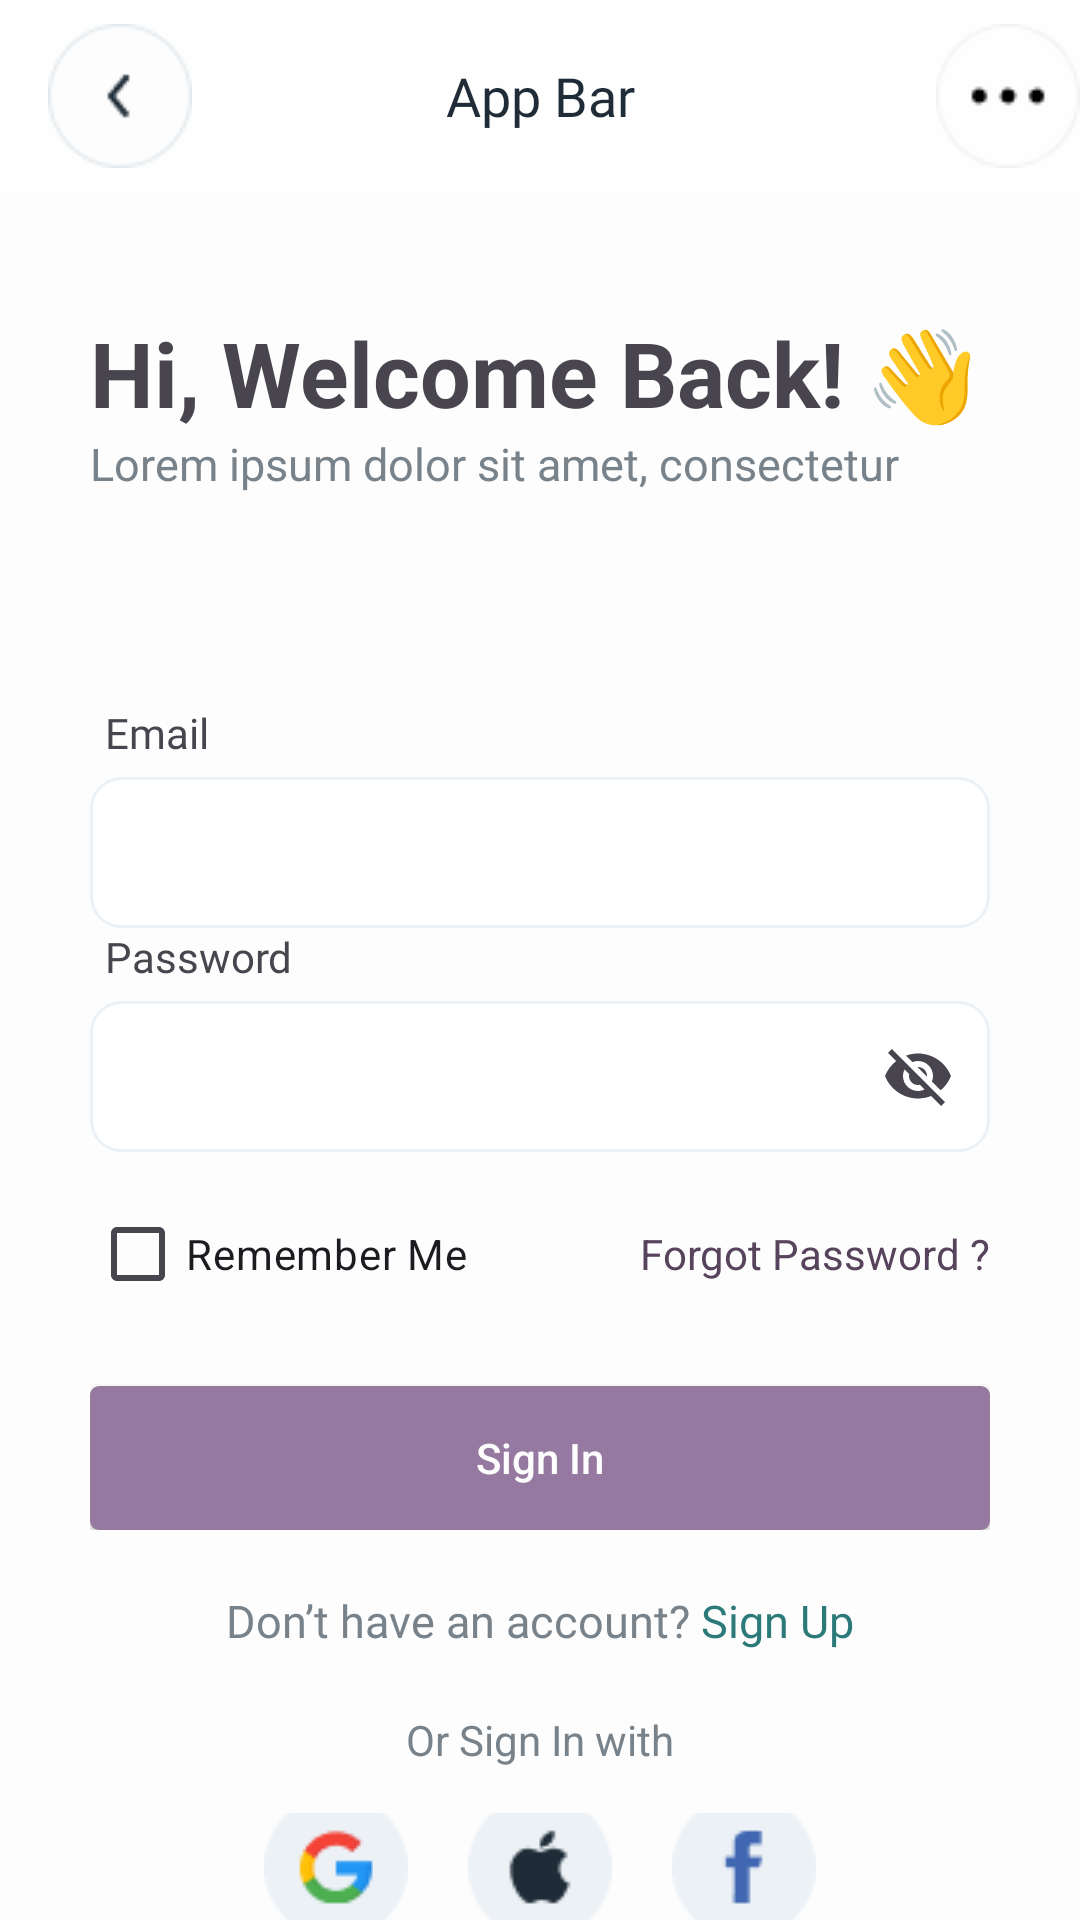

Icon click points for this 1080w x 1920h phone screenshot, format point (x, y):
arrow back: point (120, 96)
three dot: point (1008, 96)
